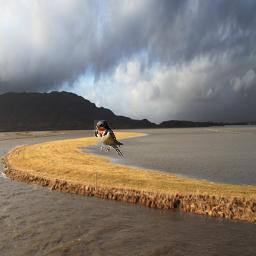Swallow: (94, 120, 123, 157)
